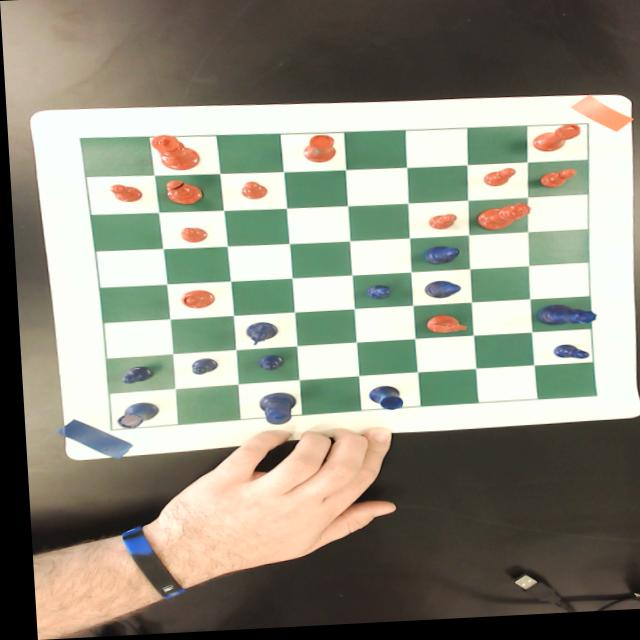B: (420, 283, 458, 303), (420, 249, 458, 268)
K: (251, 393, 294, 427)
N: (238, 321, 275, 349)
P: (548, 348, 586, 366), (115, 366, 150, 385), (184, 358, 215, 377), (252, 356, 280, 373), (362, 287, 389, 304)
Q: (531, 308, 594, 331)
R: (110, 402, 156, 430), (363, 388, 399, 414)
b: (162, 180, 201, 207), (176, 290, 212, 310)
k: (147, 135, 200, 173)
n: (421, 317, 464, 337)
p: (535, 173, 576, 195), (479, 171, 516, 192), (108, 183, 141, 203), (239, 182, 269, 202), (424, 217, 457, 235), (177, 227, 207, 244)
q: (474, 207, 531, 235)
r: (529, 129, 581, 157), (301, 136, 334, 166)
